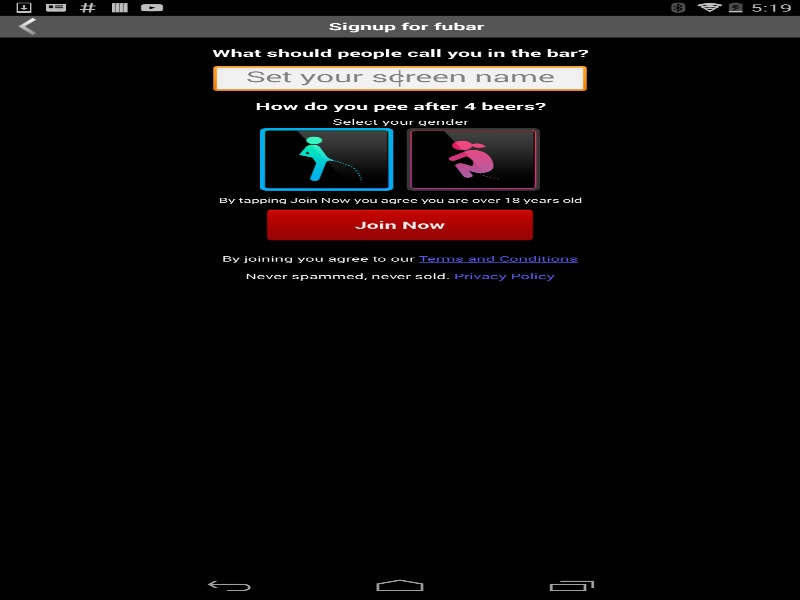Button: (406, 128, 540, 190), (266, 209, 533, 240), (260, 128, 393, 190), (13, 17, 53, 35), (746, 17, 786, 35)
Input: (213, 65, 586, 93)
